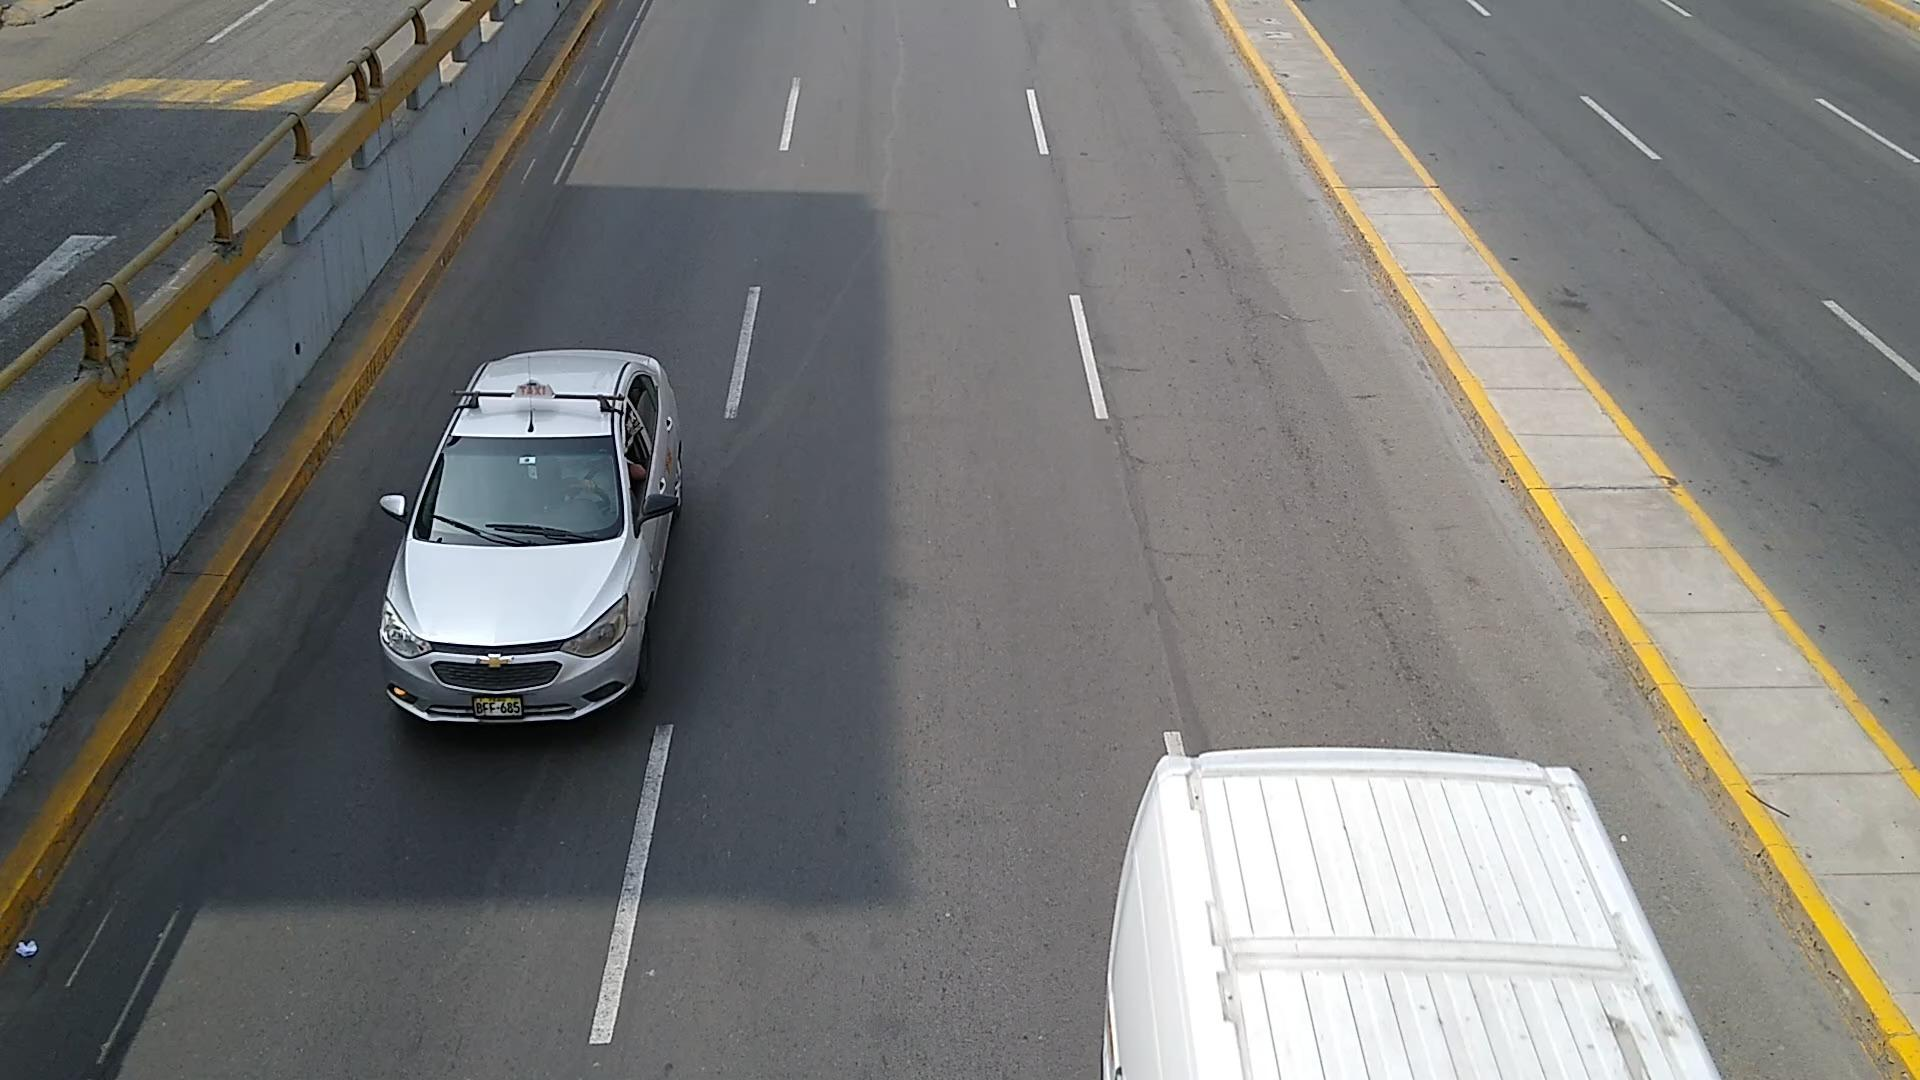car: (378, 348, 683, 724)
